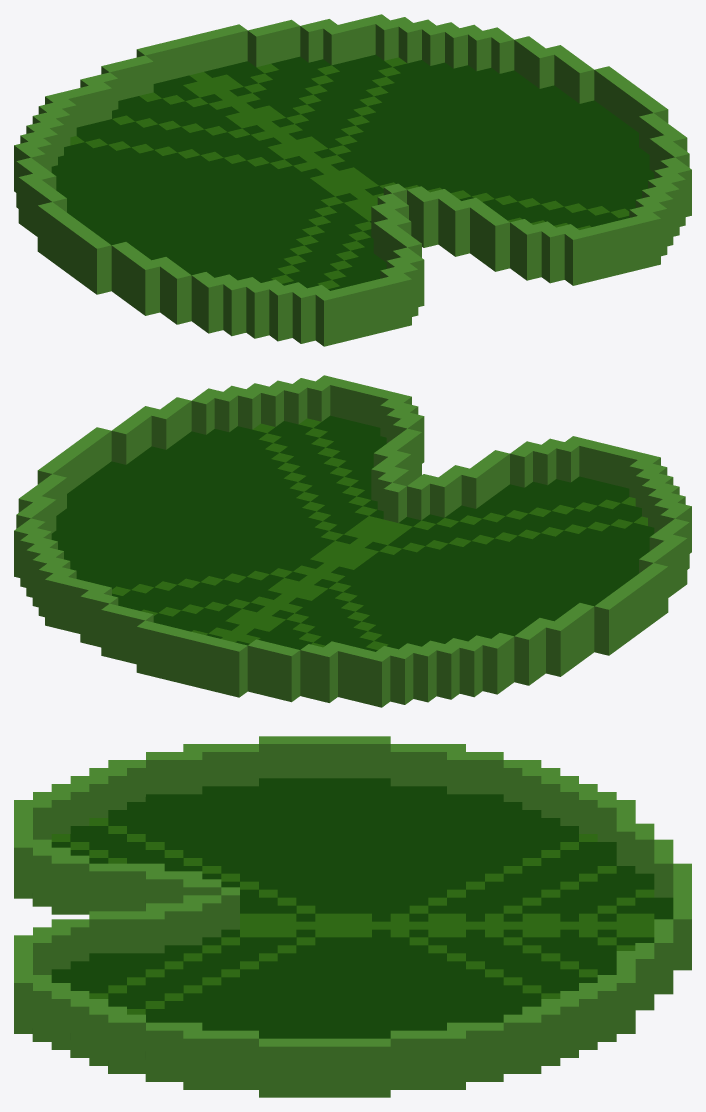
The model's file is VitRegia1.fbx.
The picture shows the model from 3 angles, top to bottom: view 1: azimuth 30°, elevation 25°; view 2: azimuth 150°, elevation 25°; view 3: azimuth 270°, elevation 25°; orthographic projection. The views are drawn at different scales.
Visible parts, largest first — view 1: Vegetacao.001; view 2: Vegetacao.001; view 3: Vegetacao.001.
Part boxes in pixels (bbox=[...]): Vegetacao.001: bbox=[14, 14, 691, 346]; Vegetacao.001: bbox=[14, 375, 691, 707]; Vegetacao.001: bbox=[14, 736, 691, 1097].
Bounding box in the file's own units: 3900 × 300 × 3600.
